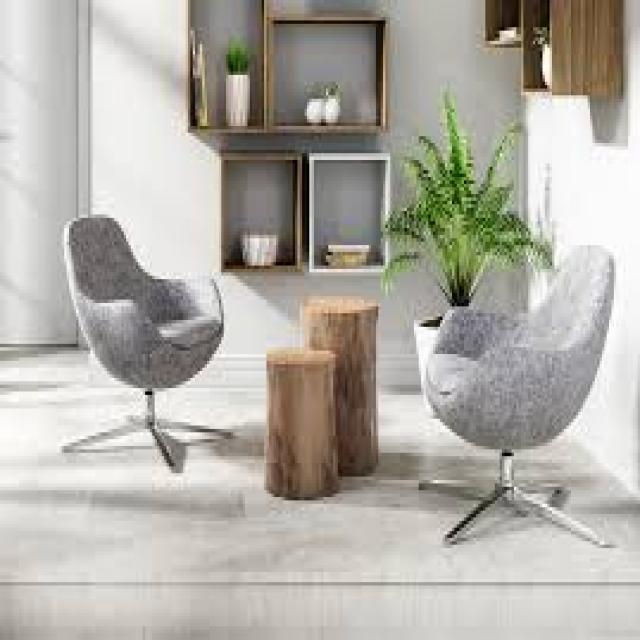chair: (385, 203, 627, 599), (27, 170, 235, 524)
